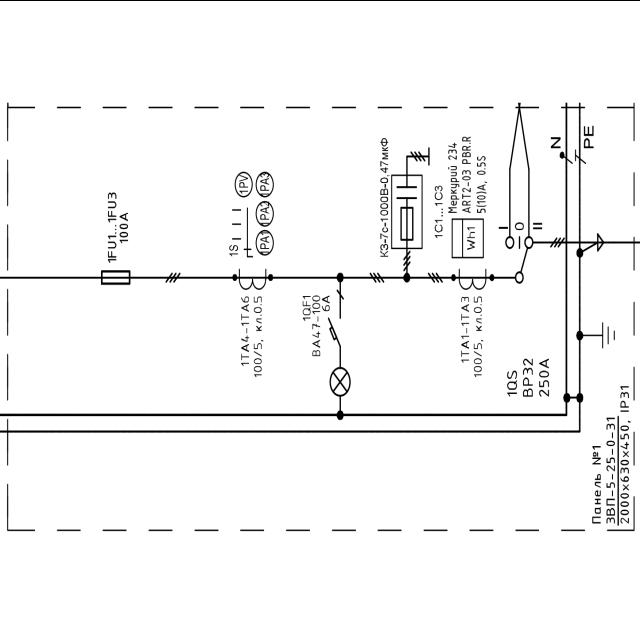-: (604, 381, 632, 525), (447, 132, 489, 216), (309, 290, 332, 356), (520, 353, 552, 398), (472, 294, 486, 378), (252, 292, 263, 378), (118, 206, 132, 248), (227, 242, 239, 258)
FU: (100, 268, 132, 286)
HL: (328, 363, 354, 398)
PA: (254, 227, 274, 255), (254, 198, 274, 226), (256, 170, 276, 198)
PV: (232, 168, 254, 198)
QF: (326, 313, 343, 347)
S: (227, 203, 253, 261)
TT: (237, 260, 268, 290), (456, 264, 488, 291)
WH: (450, 214, 484, 258)
switch: (504, 233, 534, 280)
